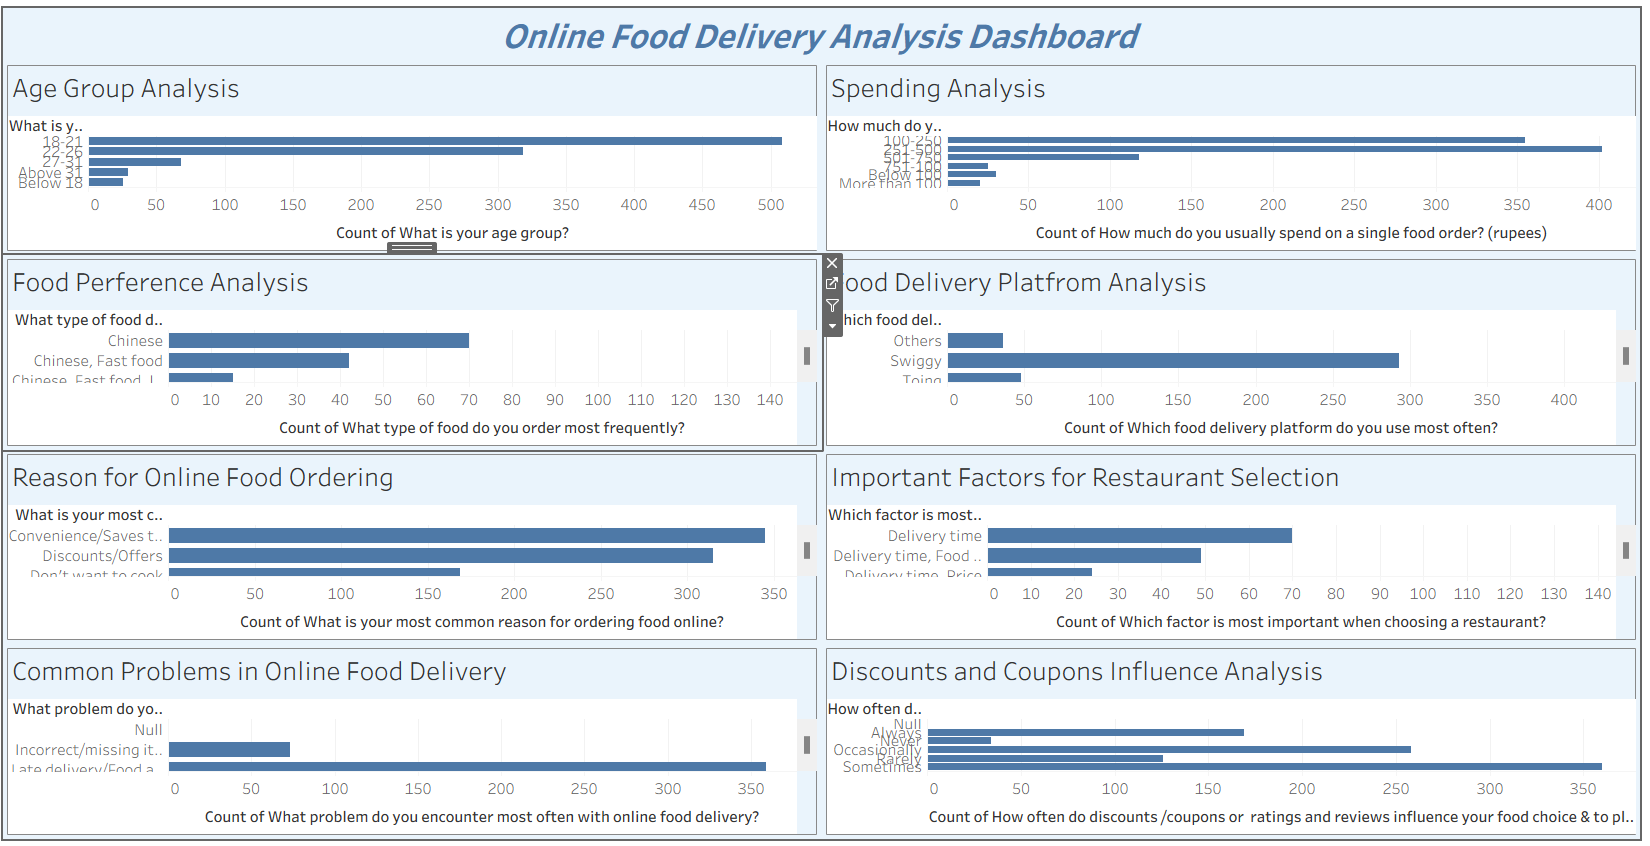

Layout of this report page (visuals, bound fields, positions):
{"tool":"tableau","page":{"name":"Dashboard 1","canvas":[1000,1000],"units":"permille","ordinal":0},"visuals":[{"type":"title","box":[6,11.8,987.9,62.3]},{"type":"worksheet","title":"Sheet 1","mark":"Automatic","rows":["What is your age group?  "],"cols":["What is your age group?  "],"box":[6,74,494,228.5]},{"type":"worksheet","title":"Sheet 2","mark":"Automatic","rows":["How much do you usually spend on a single food order? (rupee"],"cols":["How much do you usually spend on a single food order? (rupee"],"box":[500,74,494,228.5]},{"type":"worksheet","title":"Sheet 3","mark":"Automatic","rows":["What type of food do you order most frequently?  "],"cols":["What type of food do you order most frequently?  "],"box":[6,302.5,494,228.6]},{"type":"worksheet","title":"Sheet 4","mark":"Automatic","rows":["Which food delivery platform do you use most often?  "],"cols":["Which food delivery platform do you use most often?  "],"box":[500,302.5,494,228.6]},{"type":"worksheet","title":"Sheet 5","mark":"Automatic","rows":["What is your most common reason for ordering food online?  "],"cols":["What is your most common reason for ordering food online?  "],"box":[6,531.1,494,228.5]},{"type":"worksheet","title":"Sheet 6","mark":"Automatic","rows":["Which factor is most important when choosing a restaurant?  "],"cols":["Which factor is most important when choosing a restaurant?  "],"box":[500,531.1,494,228.5]},{"type":"worksheet","title":"Sheet 7","mark":"Automatic","rows":["What problem do you encounter most often with online food de"],"cols":["What problem do you encounter most often with online food de"],"box":[6,759.6,494,228.6]},{"type":"worksheet","title":"Sheet 8","mark":"Automatic","box":[500,759.6,494,228.6]}]}

Visuals, with their boxes on the dashboard's canvas, which has no fixed pixel size, in thousandths of its width and height (x1, y1, x2, y2). These are canvas units, not pixel positions in the 1650x846 screenshot, which may show the page scaled, cropped or inside an application window:
title: BBox(6, 12, 994, 74)
"Sheet 1" worksheet: BBox(6, 74, 500, 302)
"Sheet 2" worksheet: BBox(500, 74, 994, 302)
"Sheet 3" worksheet: BBox(6, 302, 500, 531)
"Sheet 4" worksheet: BBox(500, 302, 994, 531)
"Sheet 5" worksheet: BBox(6, 531, 500, 760)
"Sheet 6" worksheet: BBox(500, 531, 994, 760)
"Sheet 7" worksheet: BBox(6, 760, 500, 988)
"Sheet 8" worksheet: BBox(500, 760, 994, 988)
